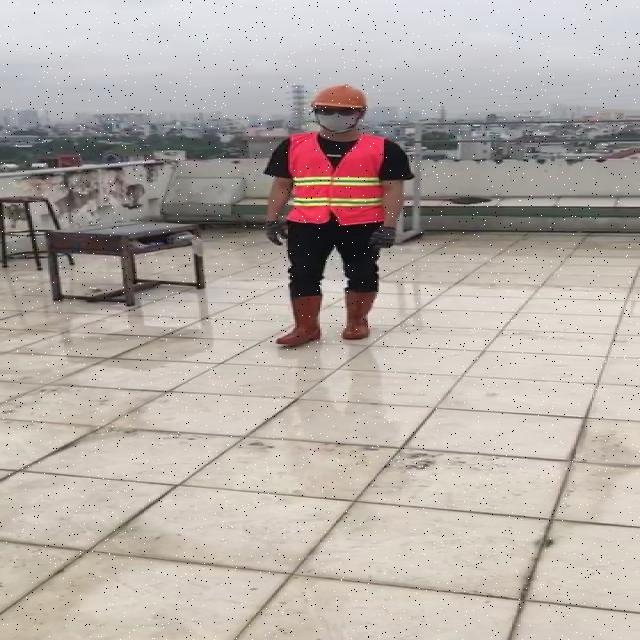Hard_hat: (308, 82, 375, 118)
Person: (255, 80, 420, 354)
Vest: (286, 130, 389, 227)
